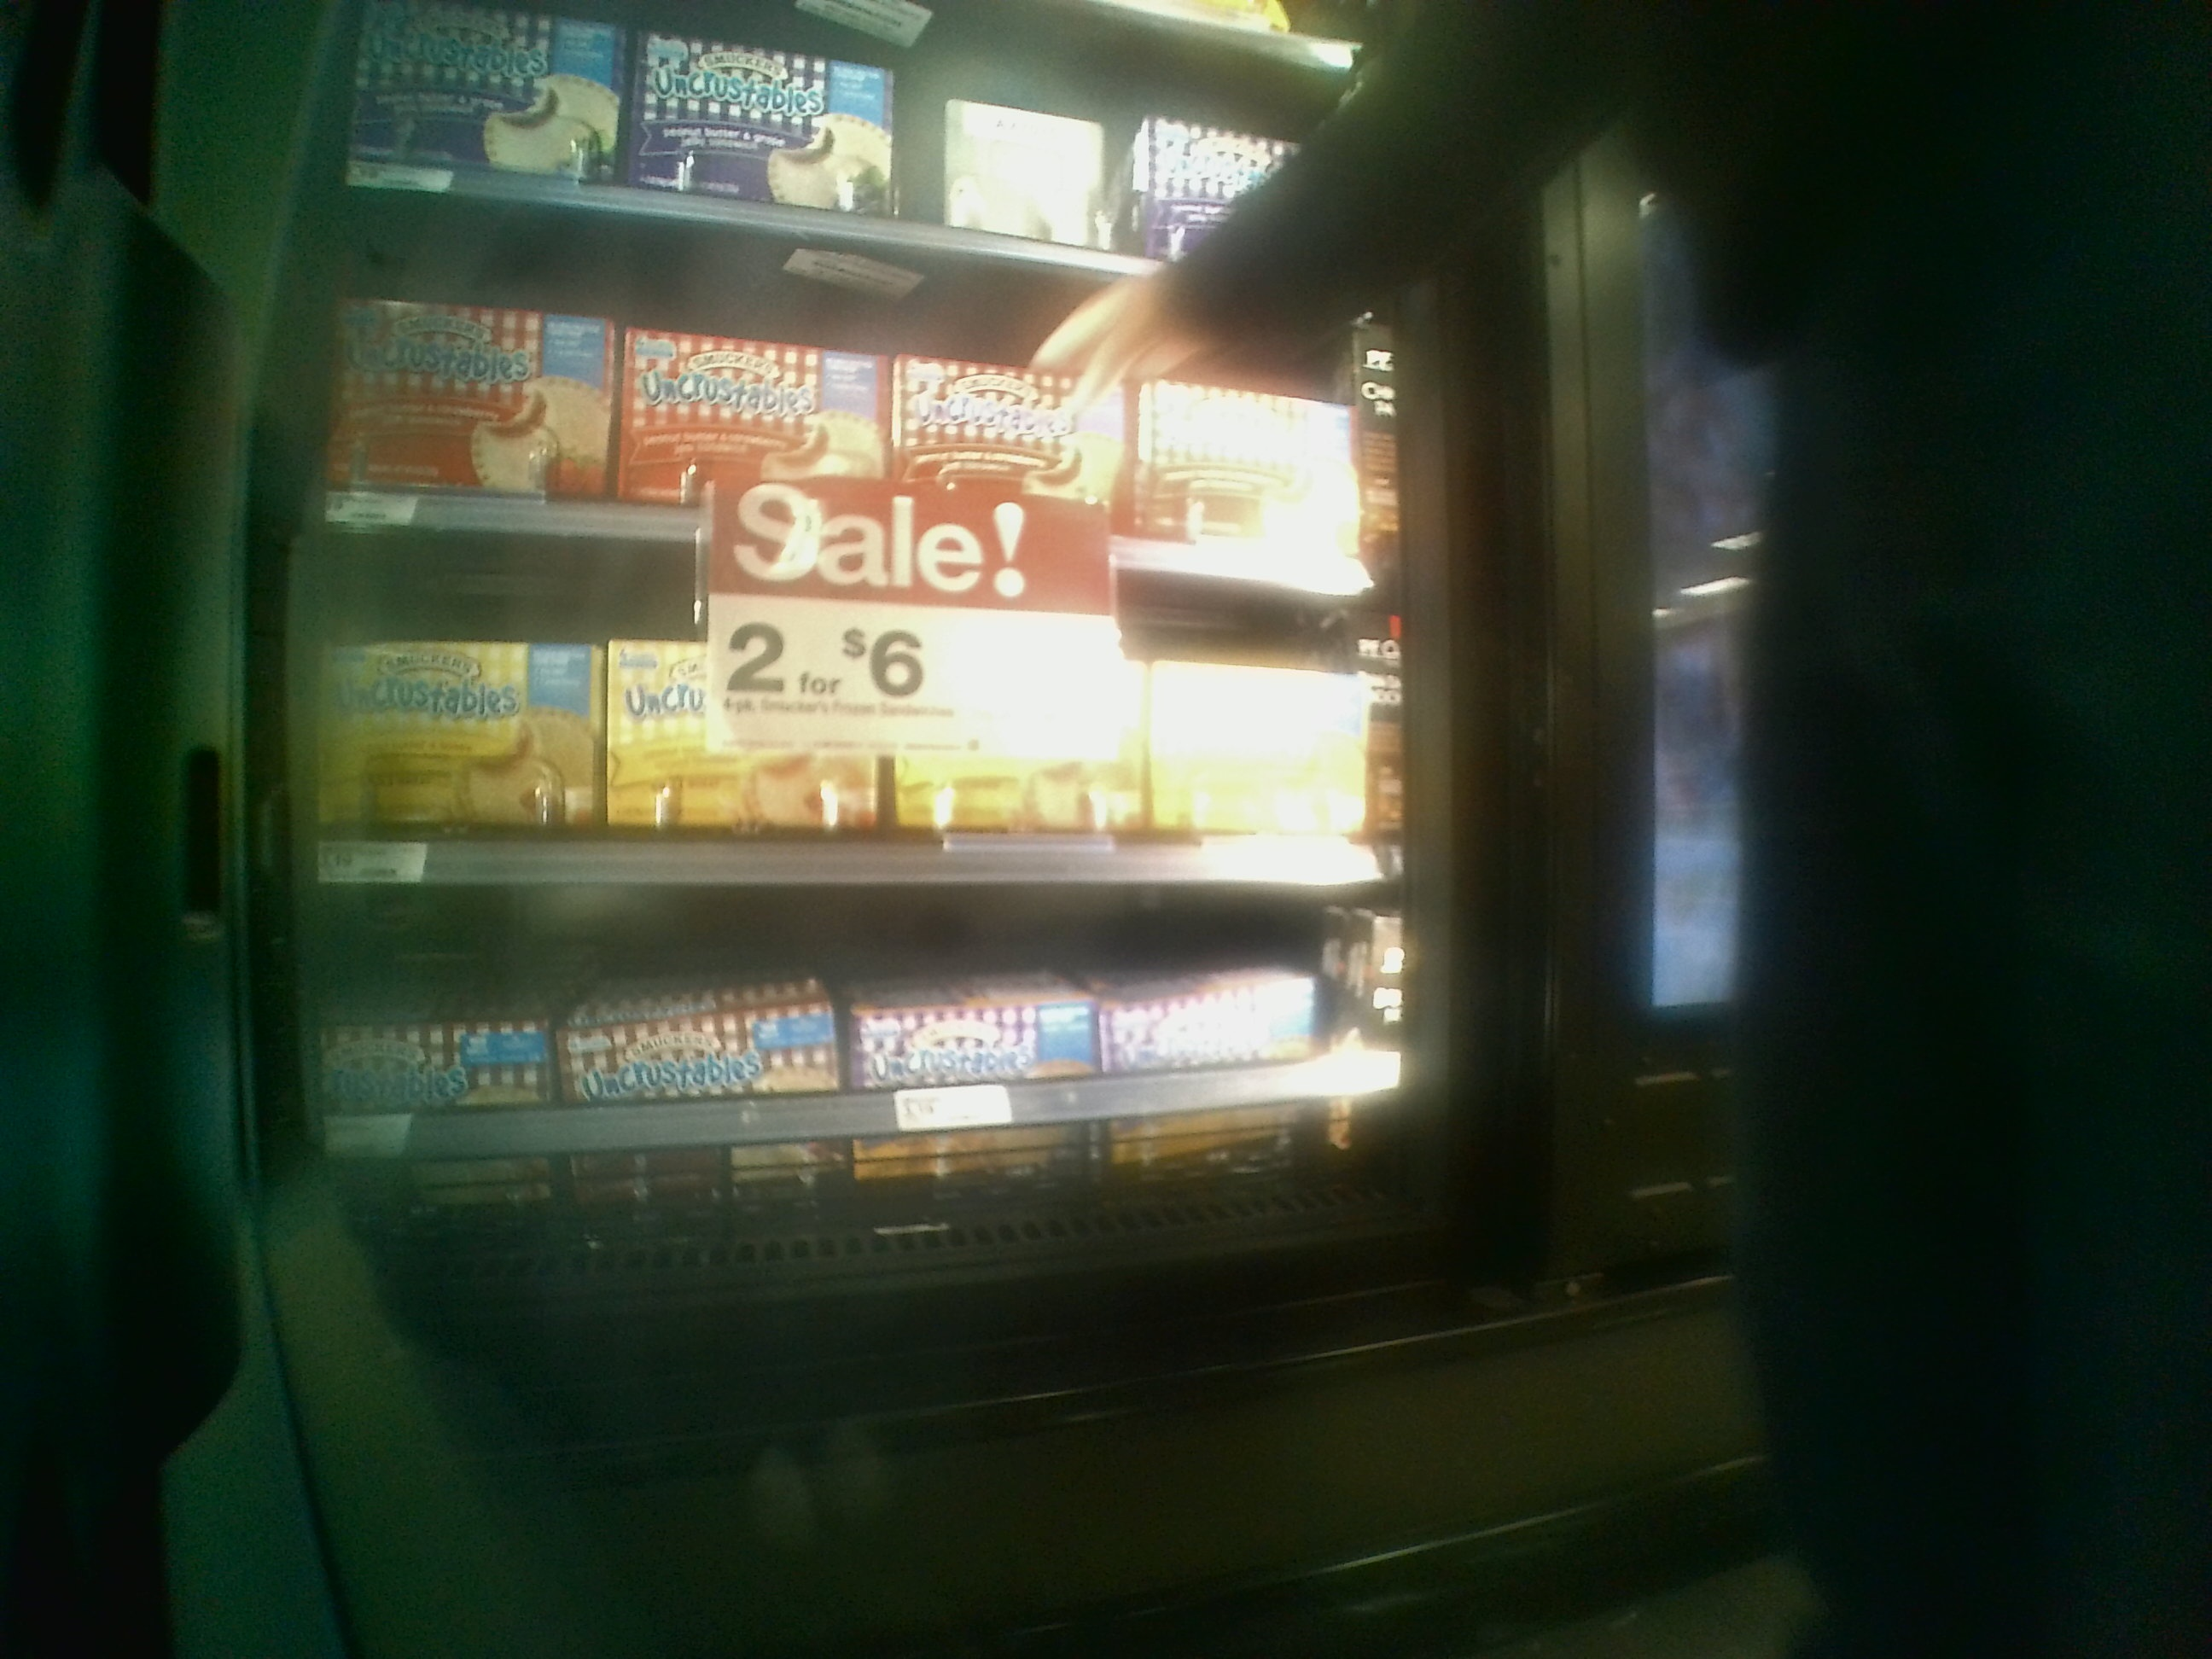shelf: (307, 498, 1374, 866)
